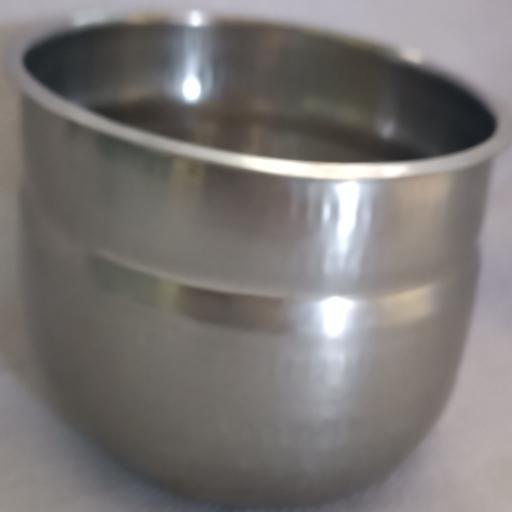vessel: (10, 11, 508, 505)
